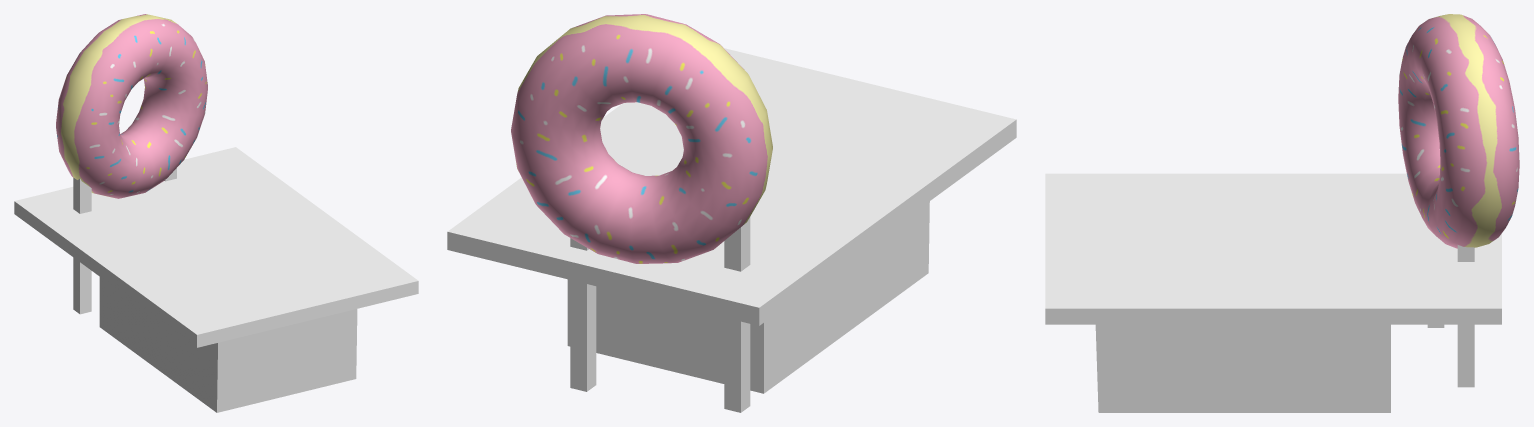
File: donutshoptest.fbx
3 views of the same model, side by side, from view 1: azimuth 30°, elevation 25°; view 2: azimuth 150°, elevation 25°; view 3: azimuth 270°, elevation 25° (orthographic). The views are drawn at different scales.
Visible parts, largest first — view 1: polySurface5; view 2: polySurface5; view 3: polySurface5.
Boxes of the visible parts, x1=… form: polySurface5: x1=14, y1=14, x2=418, y2=412; polySurface5: x1=447, y1=14, x2=1016, y2=412; polySurface5: x1=1045, y1=14, x2=1519, y2=412.
Bounding box in the file's own units: 472 × 555 × 701.
Materials: 1 (1 with a texture image).
